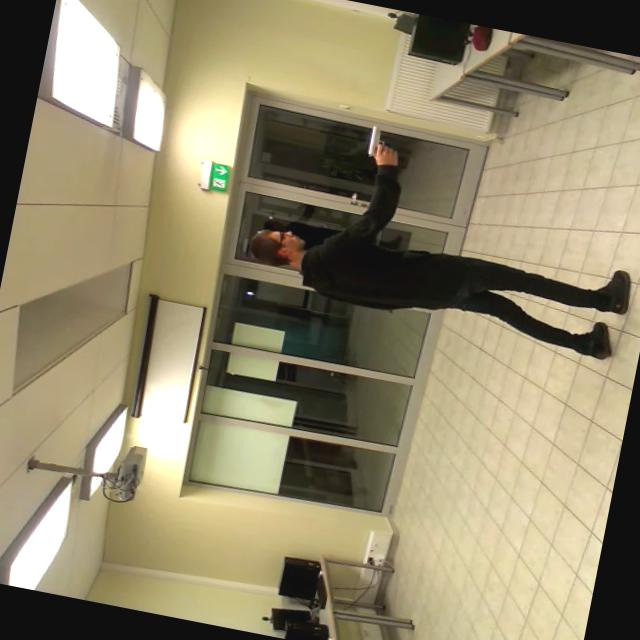handgun: (348, 120, 408, 168)
